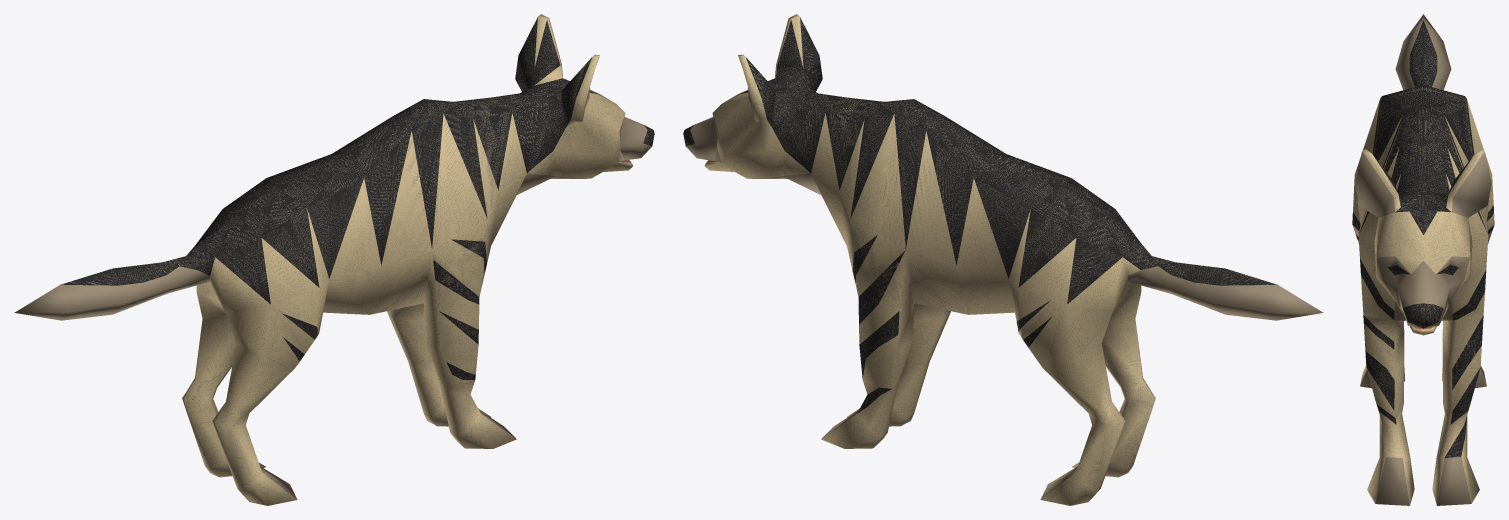
File: hyena.dae
3 views of the same model, side by side, from view 1: azimuth 30°, elevation 25°; view 2: azimuth 150°, elevation 25°; view 3: azimuth 270°, elevation 25° (orthographic). The views are drawn at different scales.
Visible parts, largest first — view 1: _0HyenaStriped_Adult.01 (×5); view 2: _0HyenaStriped_Adult.01 (×7); view 3: _0HyenaStriped_Adult.01 (×18).
Part boxes in pixels (left/top/right/bottom): _0HyenaStriped_Adult.01 (×5): left=14, top=14, right=651, bottom=505; _0HyenaStriped_Adult.01 (×7): left=686, top=14, right=1323, bottom=505; _0HyenaStriped_Adult.01 (×18): left=1352, top=14, right=1494, bottom=505.
Bounding box in the file's own units: 182 × 33.03 × 100.
